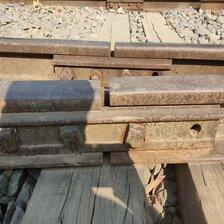railway-gap: (79, 73, 130, 117), (91, 31, 132, 68), (90, 144, 121, 174)
